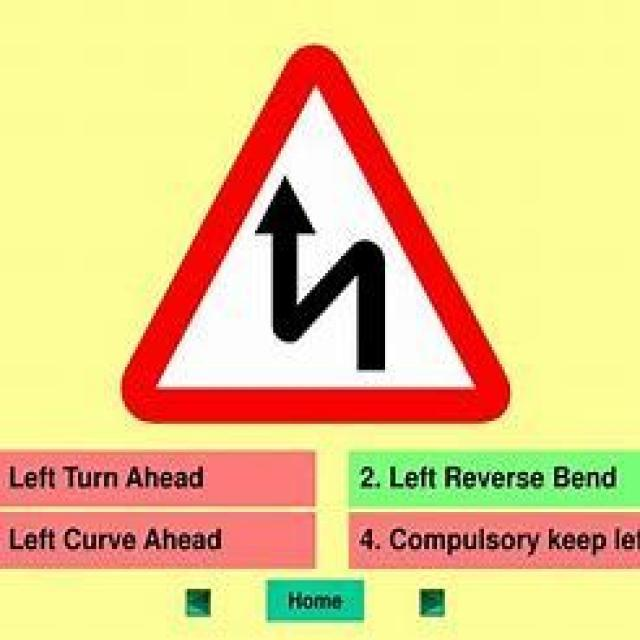left reverse bend: (107, 27, 524, 438)
